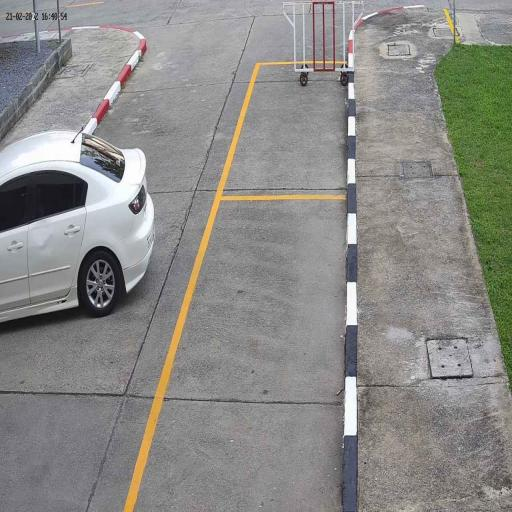car: (0, 129, 156, 325)
